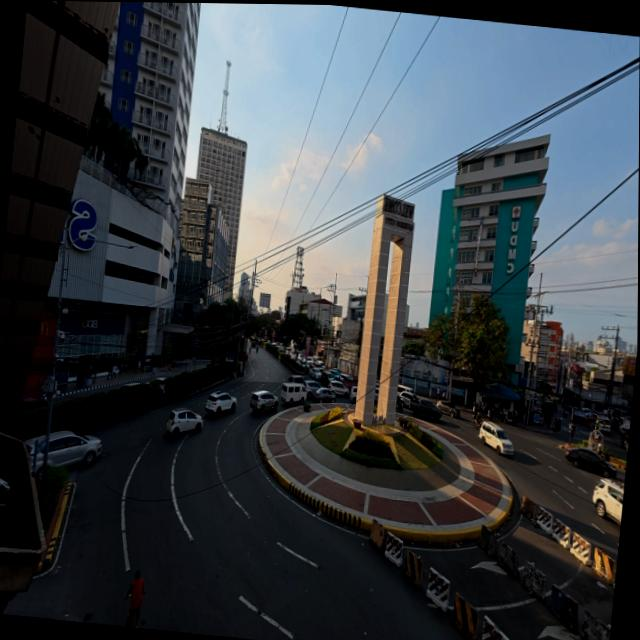car: (47, 431, 101, 467), (565, 448, 616, 477), (592, 479, 623, 524), (398, 391, 441, 420), (166, 408, 202, 436), (205, 392, 236, 415), (249, 391, 277, 414), (397, 390, 420, 414), (436, 400, 460, 418), (20, 397, 46, 410), (328, 381, 348, 397), (314, 388, 334, 403), (149, 376, 165, 393), (304, 381, 319, 399), (572, 408, 591, 420), (319, 372, 332, 387), (308, 367, 320, 380), (117, 382, 139, 389), (349, 386, 356, 402), (339, 373, 352, 381), (329, 369, 339, 379), (373, 387, 378, 403), (304, 360, 312, 368), (244, 352, 248, 359)
motorcycle: (502, 411, 516, 425), (550, 416, 561, 432), (530, 414, 542, 425), (473, 419, 481, 429), (255, 347, 256, 353)
vans: (478, 421, 513, 455), (280, 382, 305, 404), (595, 418, 610, 433), (287, 375, 304, 384), (397, 385, 411, 394)
